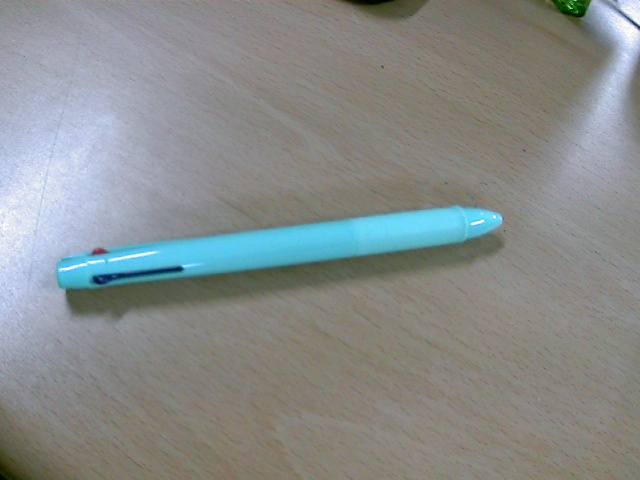pen: (65, 228, 441, 299)
